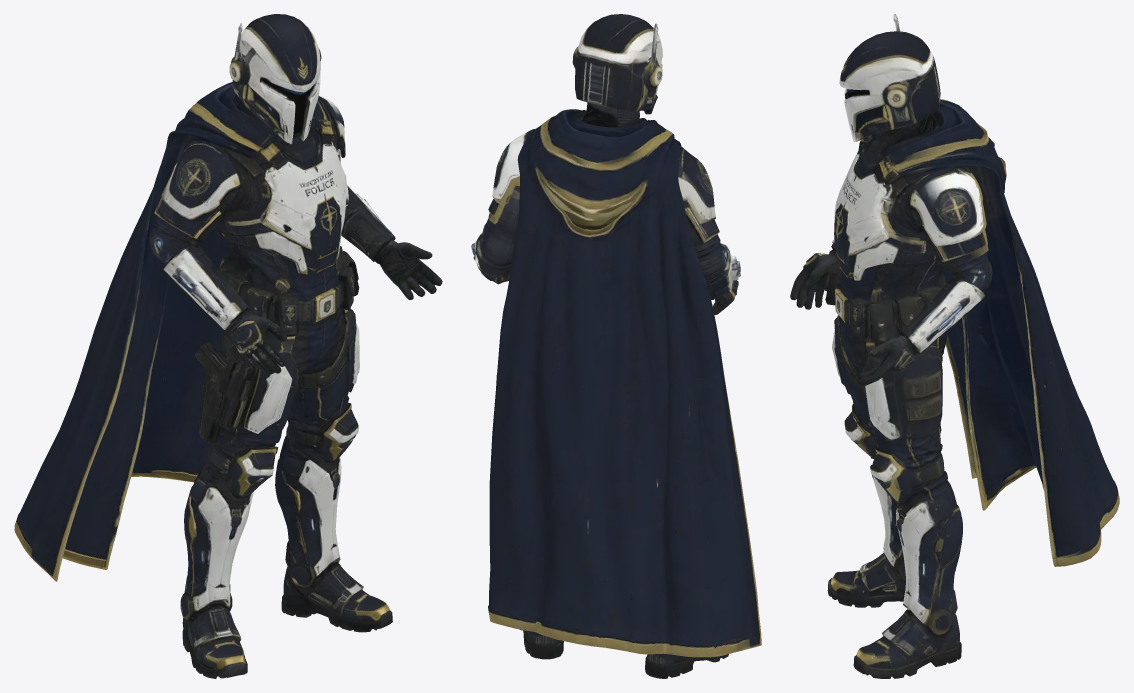
Rendered from police.glb.
3 views of the same model, side by side, from view 1: azimuth 30°, elevation 25°; view 2: azimuth 150°, elevation 25°; view 3: azimuth 270°, elevation 25° (orthographic). The views are drawn at different scales.
Bounding box in the file's own units: 1.07 × 1.9 × 0.9407.
Materials: 1 (1 with a texture image).
